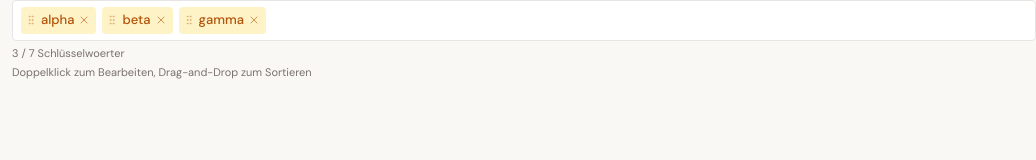
Test case: KeywordInput - delete and undo › removes a keyword when the per-chip delete button is clicked
Check: the element with test id "keyword-chip-1" is shown, box 102,7 -> 173,34
Click the button with test id "keyword-chip-1-delete".
click(161, 20)  # box 155,14 -> 167,26
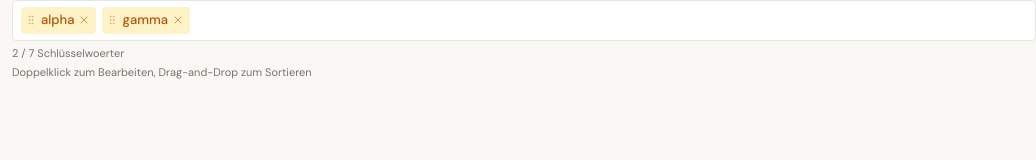
Check: the element with test id "keyword-chip-2" is gone
Check: the text with test id "keyword-counter" shows "2", box 12,46 -> 18,60
